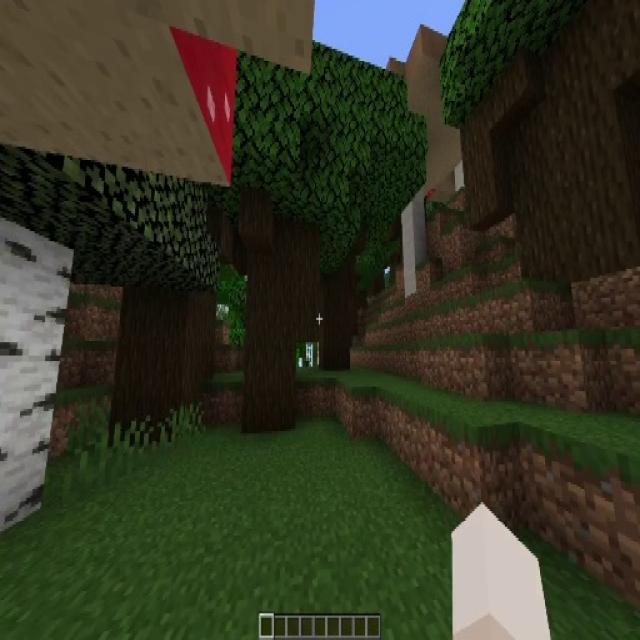birch: (0, 46, 210, 532)
birch_log: (0, 236, 81, 522)
dark_oak: (212, 42, 338, 427), (284, 63, 394, 371)
dark_oak_log: (318, 268, 355, 371)
spruce: (472, 11, 640, 273), (119, 278, 213, 441), (244, 199, 304, 424)
